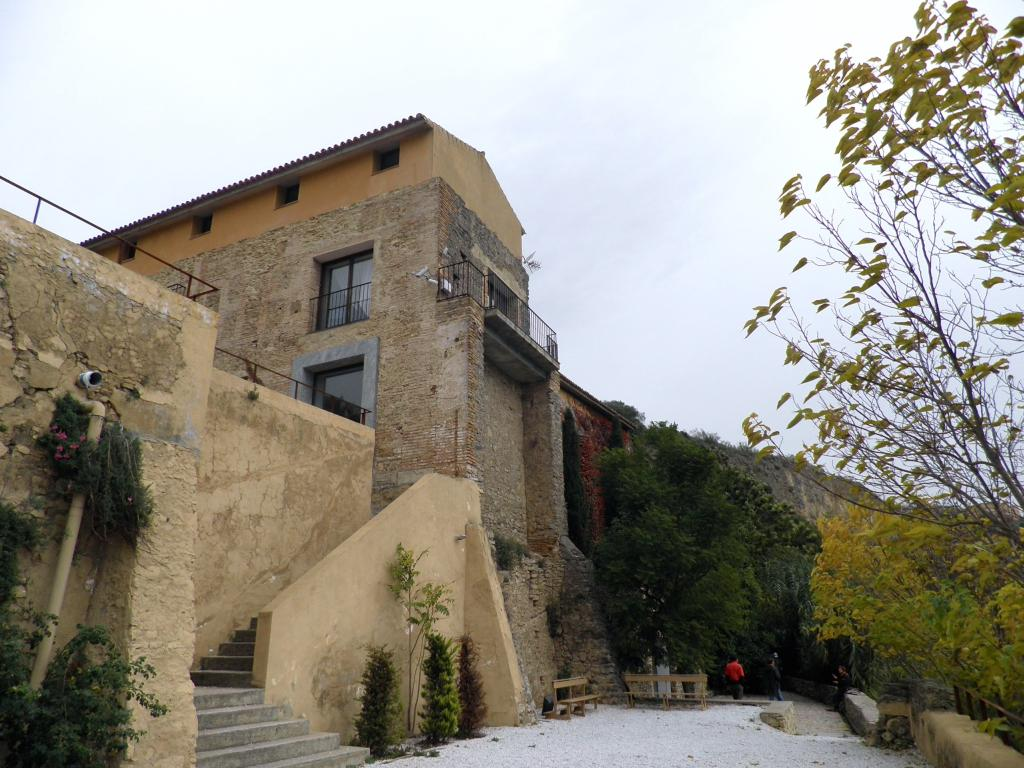Tree: (739, 0, 1022, 556), (602, 396, 1022, 714)
